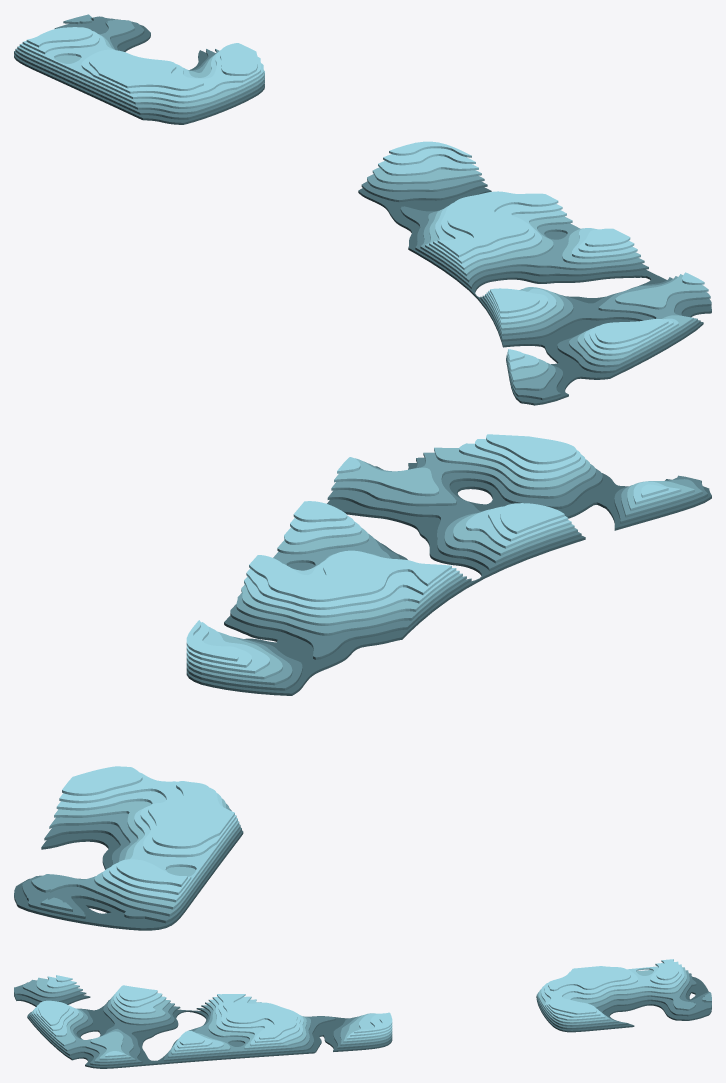
File: RecorridoSanTelmo.gltf
3 renders of one model, top to bottom at view 1: azimuth 30°, elevation 25°; view 2: azimuth 150°, elevation 25°; view 3: azimuth 270°, elevation 25°, orthographic. The views are drawn at different scales.
Parts seen in each view (by area): view 1: MarcadorSanTelmo; view 2: MarcadorSanTelmo; view 3: MarcadorSanTelmo.
Part boxes in pixels (x1,y1,x2,y2): MarcadorSanTelmo: (14, 14, 711, 405); MarcadorSanTelmo: (14, 434, 711, 930); MarcadorSanTelmo: (14, 959, 711, 1068).
Bounding box in the file's own units: 2.72 × 0.26 × 8.78.
1 material, 1 textured.
